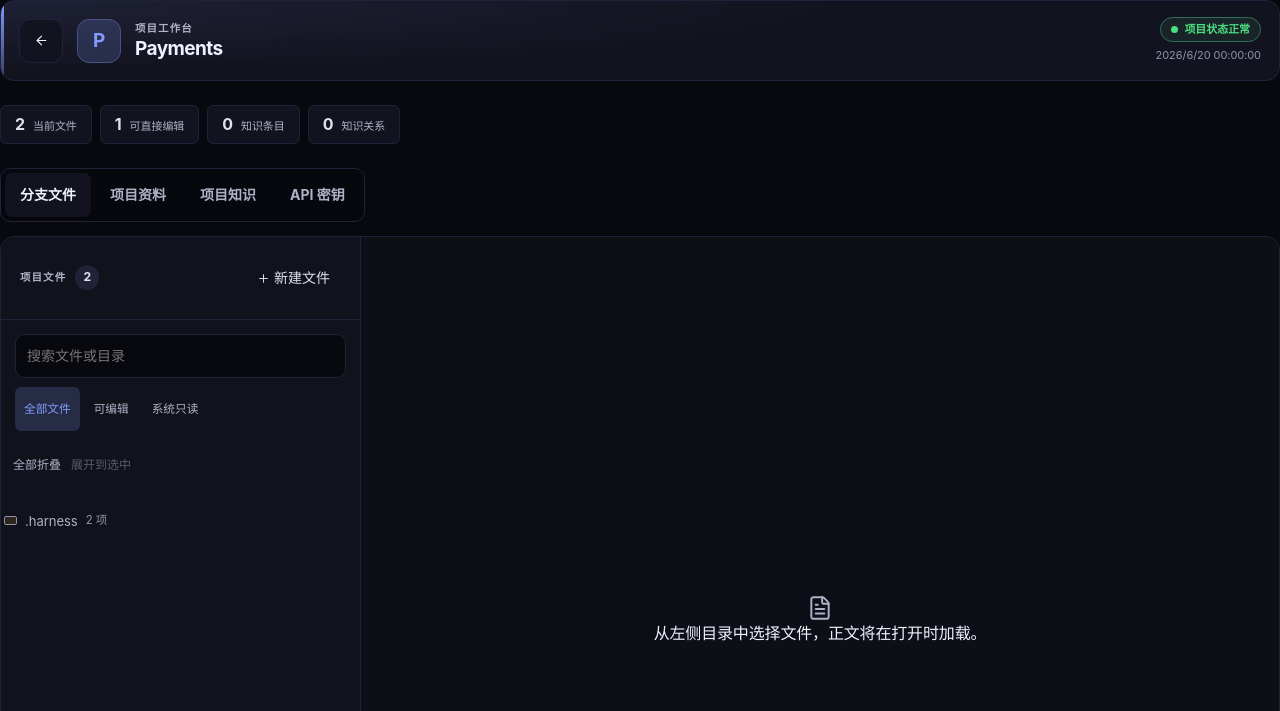
Test: ProjectWorkspace › keeps project knowledge mounted after its first visit
Click the tab "项目知识".
click(228, 195)  # box [185,173,271,217]
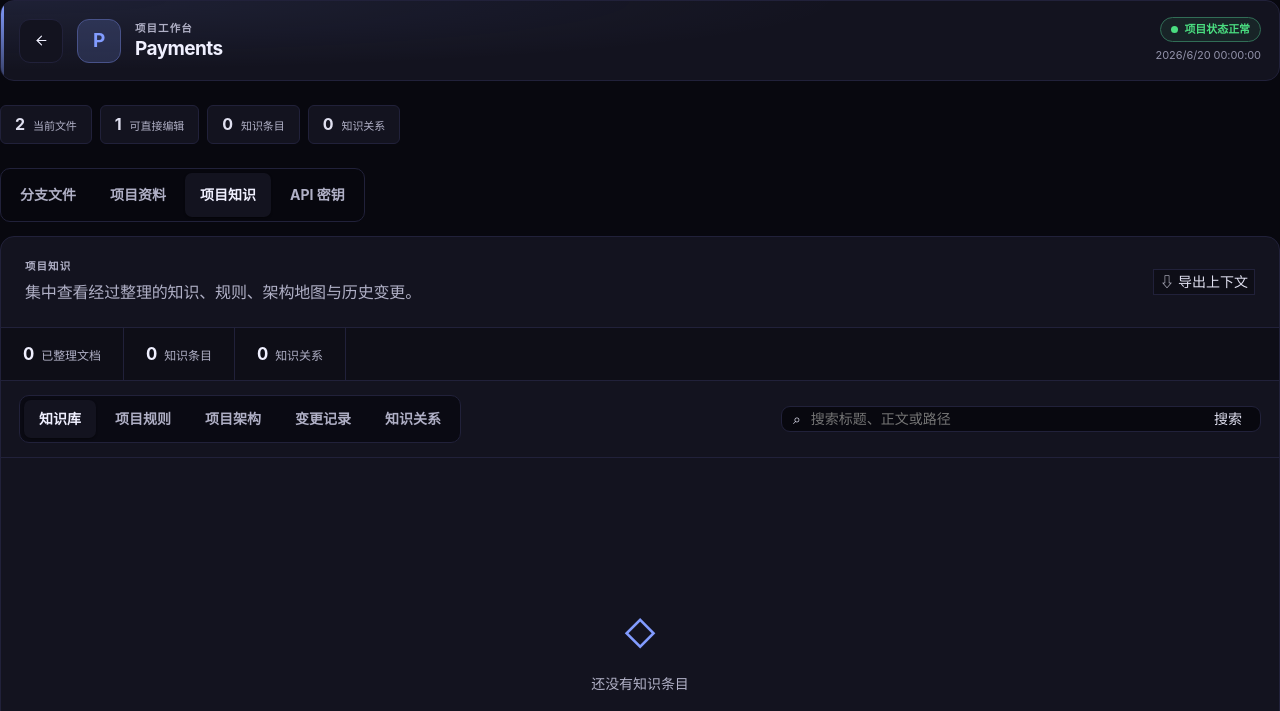
Now the text "还没有知识条目" is shown, box [591,673,689,695]
Click the tab "分支文件".
click(48, 195)  # box [5,173,91,217]
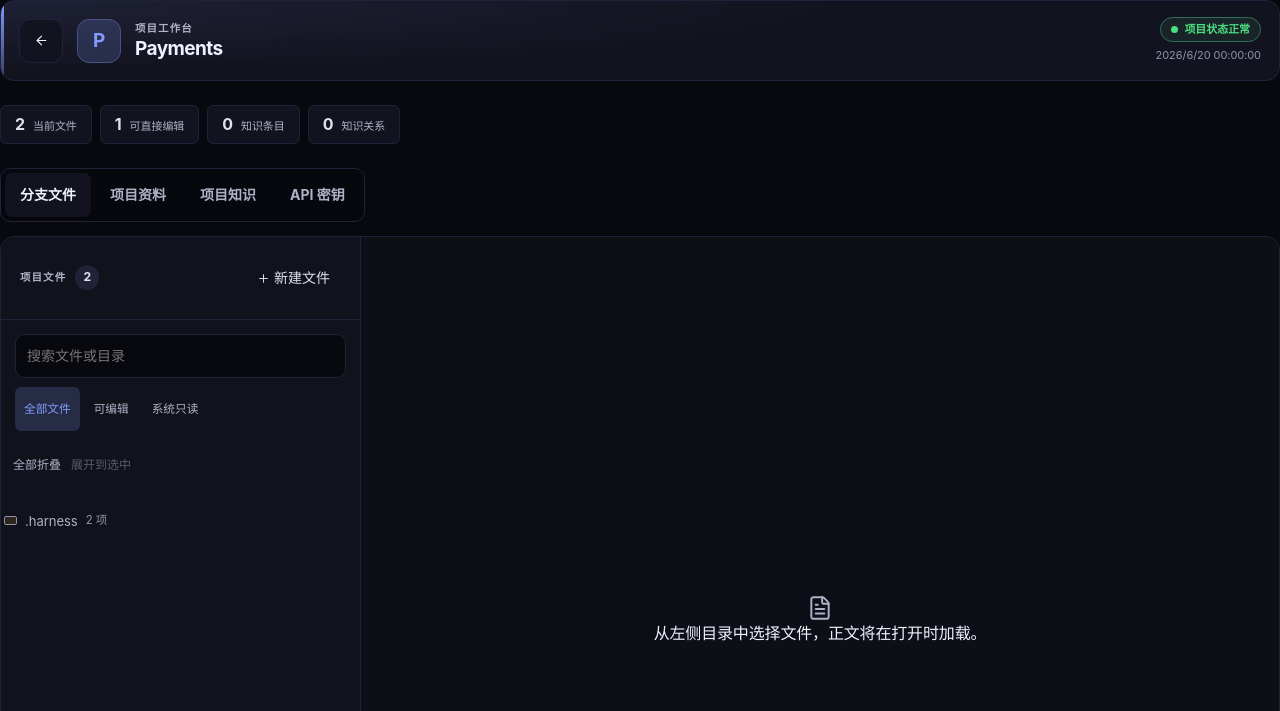
Click the tab "项目知识".
click(228, 195)  # box [185,173,271,217]
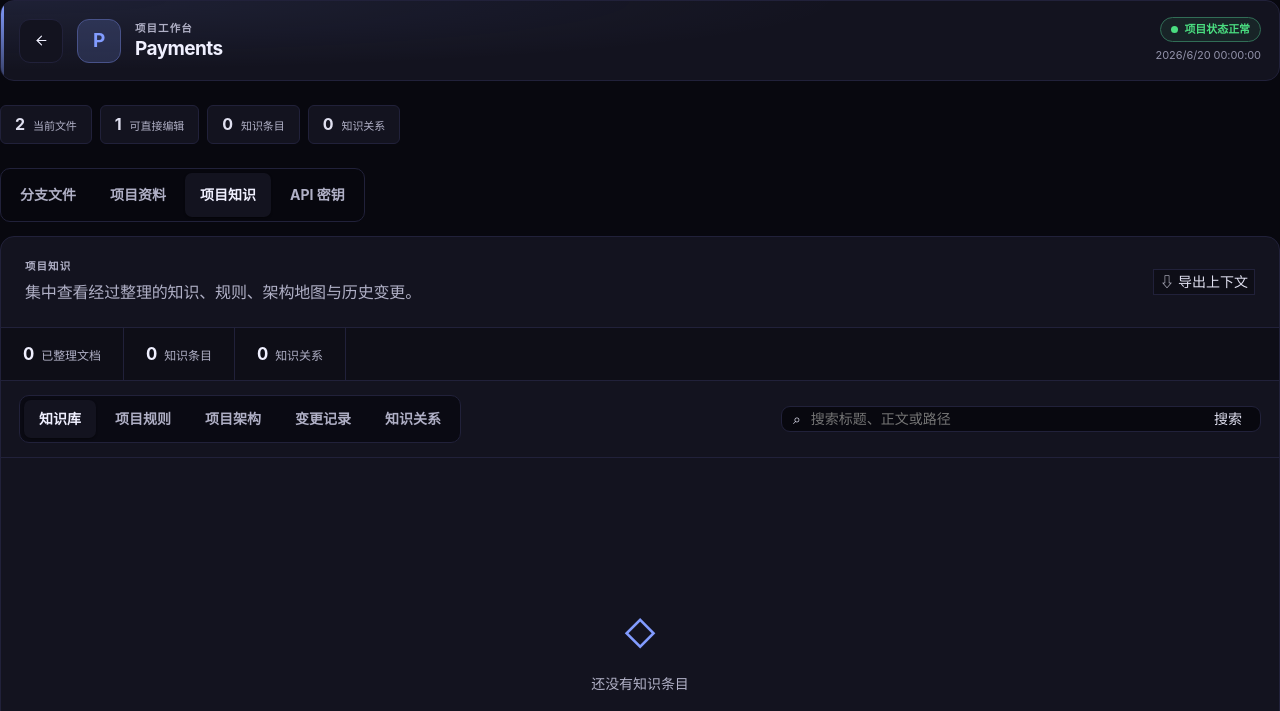
Now the text "还没有知识条目" is shown, box [591,673,689,695]
